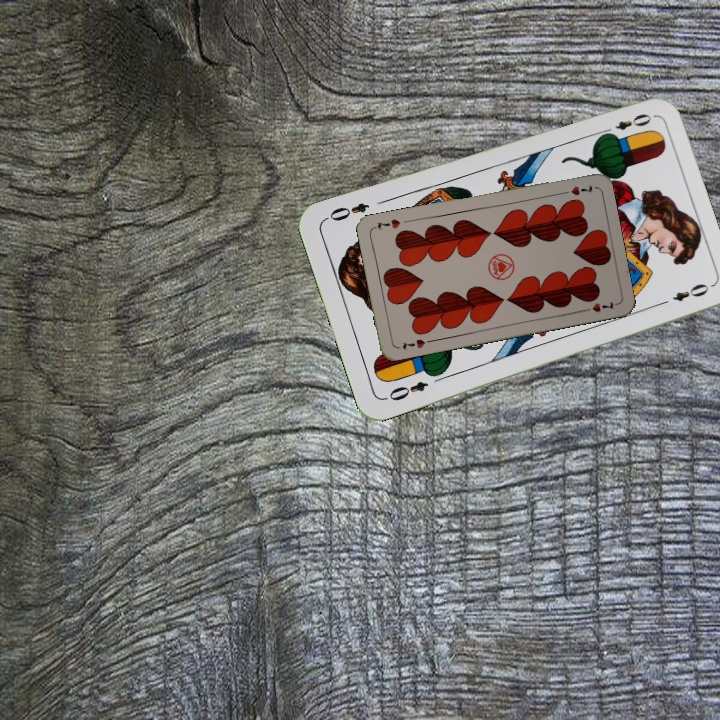EO: (597, 109, 654, 139), (384, 377, 431, 404)
H7: (556, 181, 595, 198), (398, 335, 427, 352)
